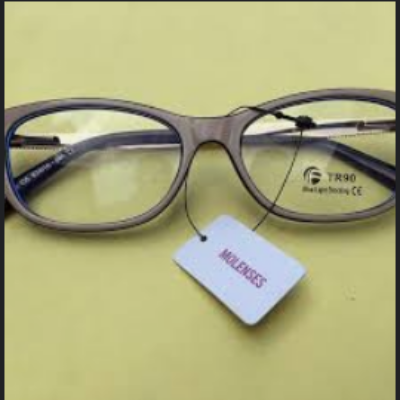glasses: (3, 83, 400, 244)
